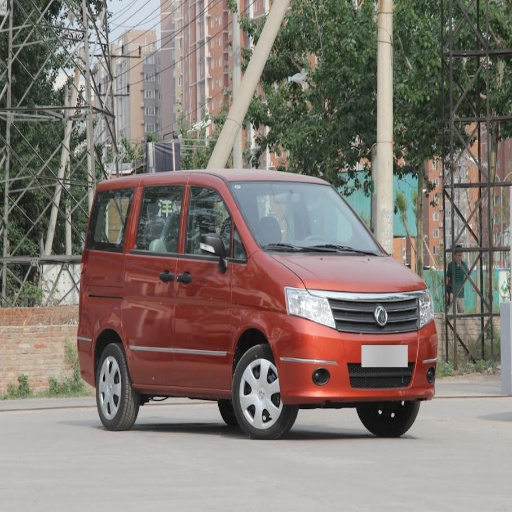front_bumper: (274, 291, 441, 406)
front_right_door: (172, 177, 248, 386)
front_right_light: (285, 286, 337, 328)
trunk: (86, 275, 119, 340)
